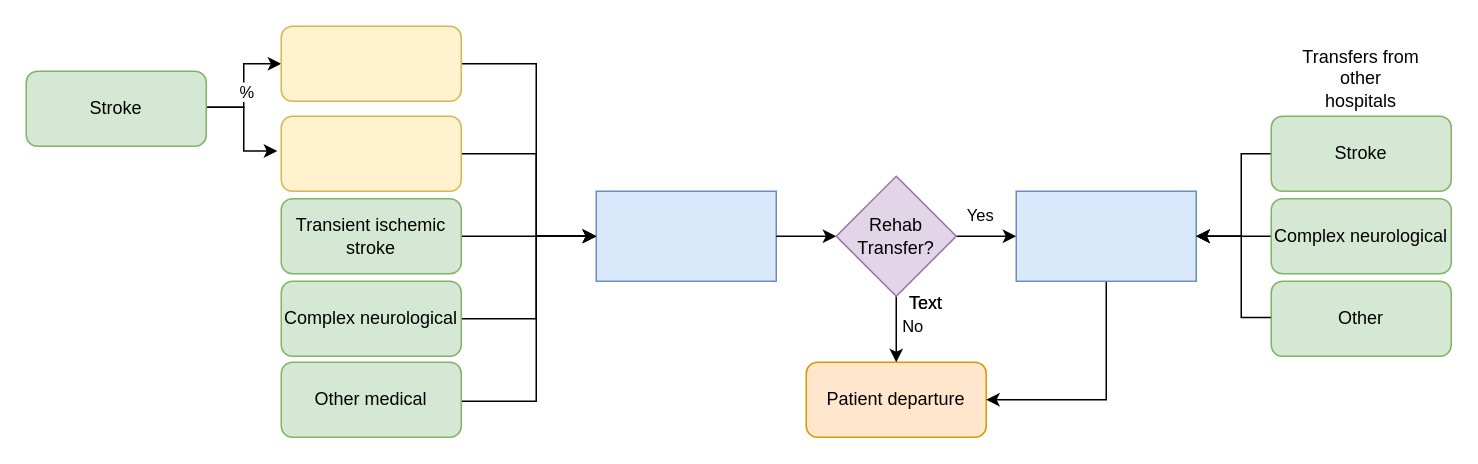
Image size: 1478x464. Some labels were removed from this diagram. The shapes that lost their labels are listed below. From the top down, each one's centre as x and y in pixels, then its label:
[370,63]: Early supported discharge patients
[370,153]: Higher severity strokes
[685,235]: Acute stroke care
[1105,235]: Rehabilitation
